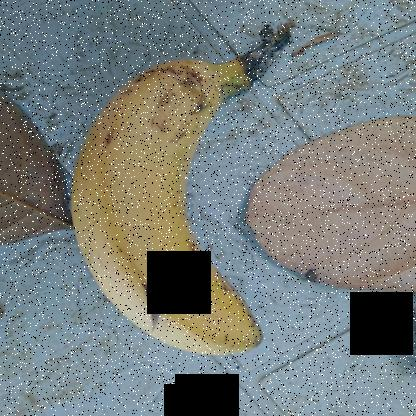ripe: (49, 53, 288, 366)
